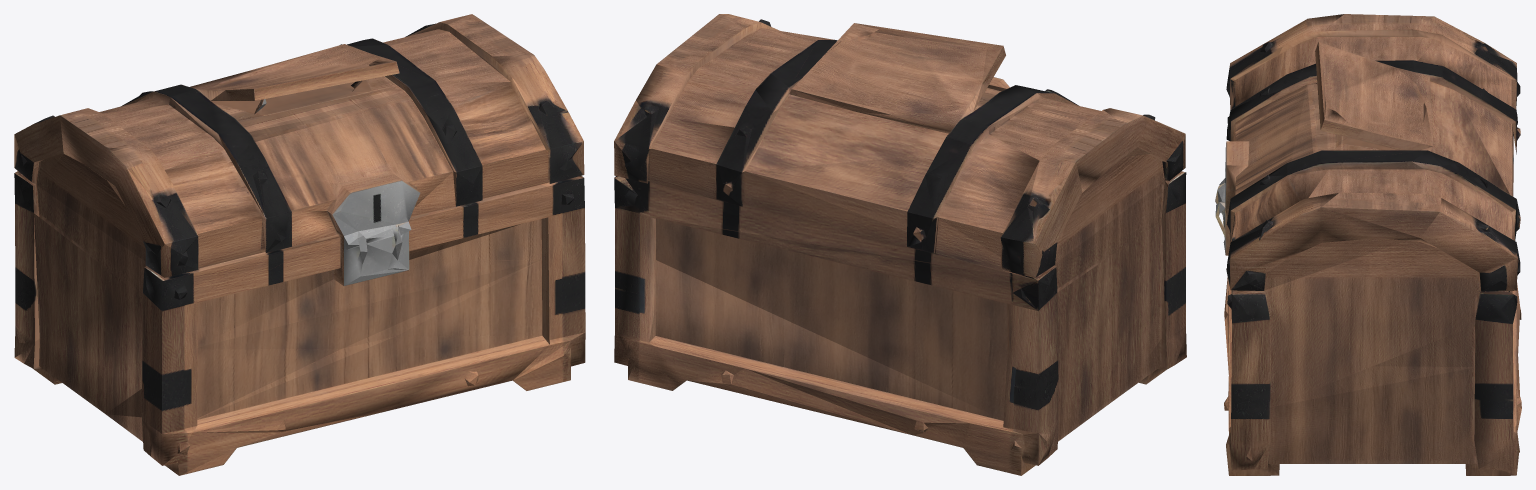
The model's file is IT_HeavyDebris_BrokenWoodenChest.fbx.
3 renders of one model, left to right at view 1: azimuth 30°, elevation 25°; view 2: azimuth 150°, elevation 25°; view 3: azimuth 270°, elevation 25°, orthographic. The views are drawn at different scales.
Visible parts, largest first — view 1: Mesh_0; view 2: Mesh_0; view 3: Mesh_0.
Part boxes in pixels (x1,y1,x2,y2): Mesh_0: (14,14,585,475); Mesh_0: (614,14,1186,475); Mesh_0: (1215,14,1521,475).
Bounding box in the file's own units: 189 × 137 × 123.
Materials: 1 (1 with a texture image).
